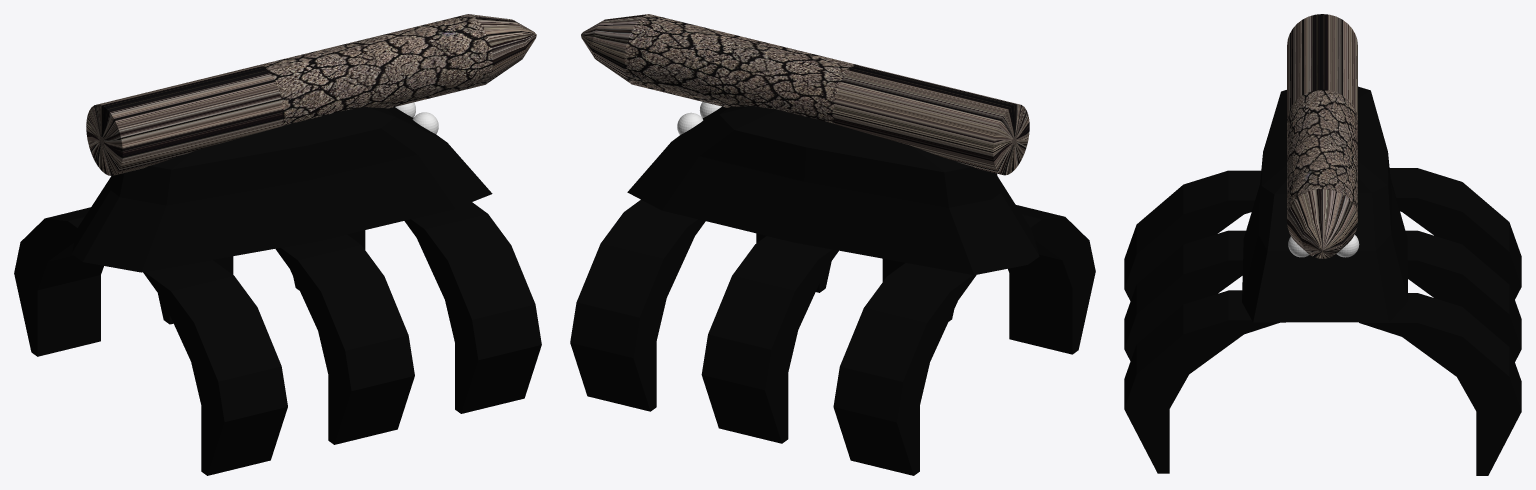
Rendered from Folinator 2.fbx.
3 renders of one model, left to right at view 1: azimuth 30°, elevation 25°; view 2: azimuth 150°, elevation 25°; view 3: azimuth 270°, elevation 25°, orthographic. The views are drawn at different scales.
Visible parts, largest first — view 1: Circle, Cylinder, Cube.003, Cube.001, Cube.002, Cube; view 2: Circle, Cylinder, Cube, Cube.004, Cube.005, Cube.003; view 3: Circle, Cylinder, Cube.005, Cube.002, Cube.003, Cube, Cube.001, Cube.004.
Boxes of the visible parts, x1,y1,x2,y2 form: Circle: (71, 107, 492, 272); Cylinder: (86, 14, 536, 175); Cube.003: (143, 260, 287, 475); Cube.001: (275, 234, 414, 444); Cube.002: (404, 202, 541, 413); Cube: (14, 207, 103, 356); Circle: (627, 106, 1039, 275); Cylinder: (581, 14, 1029, 175); Cube: (833, 263, 976, 475); Cube.004: (701, 236, 838, 443); Cube.005: (570, 200, 705, 411); Cube.003: (1008, 205, 1095, 354); Circle: (1242, 86, 1407, 322); Cylinder: (1287, 14, 1357, 258); Cube.005: (1359, 293, 1521, 475); Cube.002: (1124, 290, 1279, 473); Cube.003: (1124, 170, 1261, 300); Cube: (1389, 168, 1521, 299); Cube.001: (1124, 230, 1245, 360); Cube.004: (1405, 230, 1521, 361).
Size of the model in its own units: 1439 by 937 by 1120.
